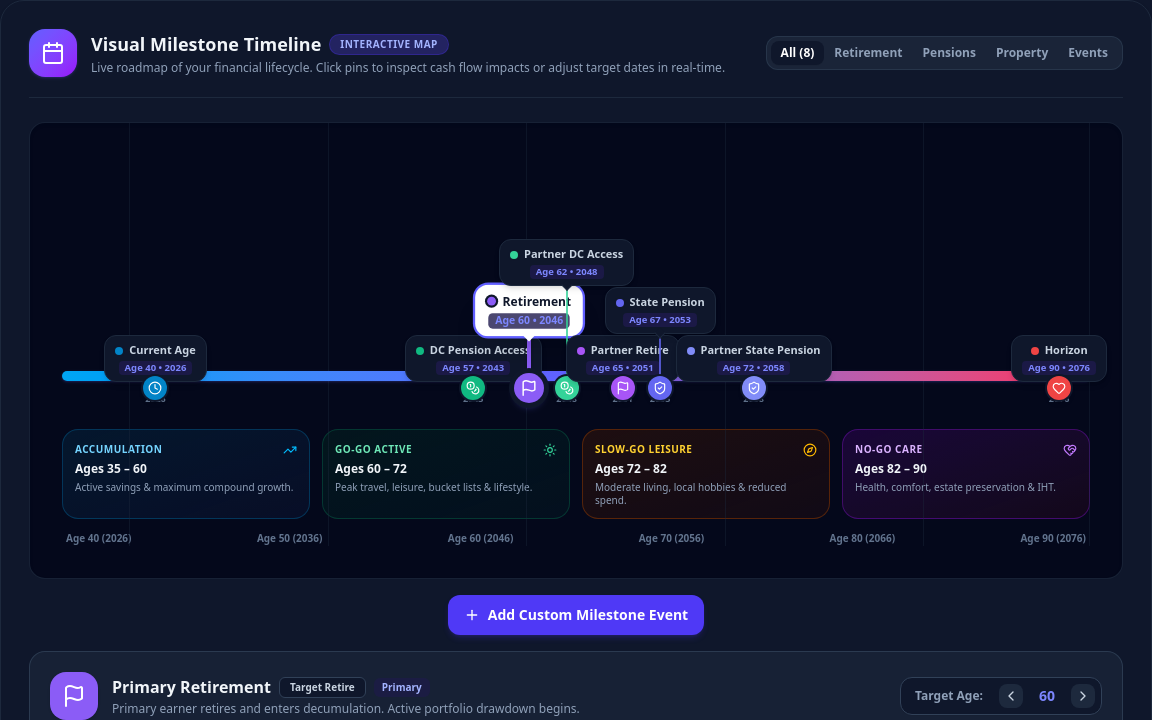
Test: MilestoneTimelineCard › handles Add Life Event modal cancellation and partner ownership selection in couple mode
Note: Open Add Modal
Click the button "Add Custom Milestone Event" at (576, 615), box [448, 595, 704, 635]
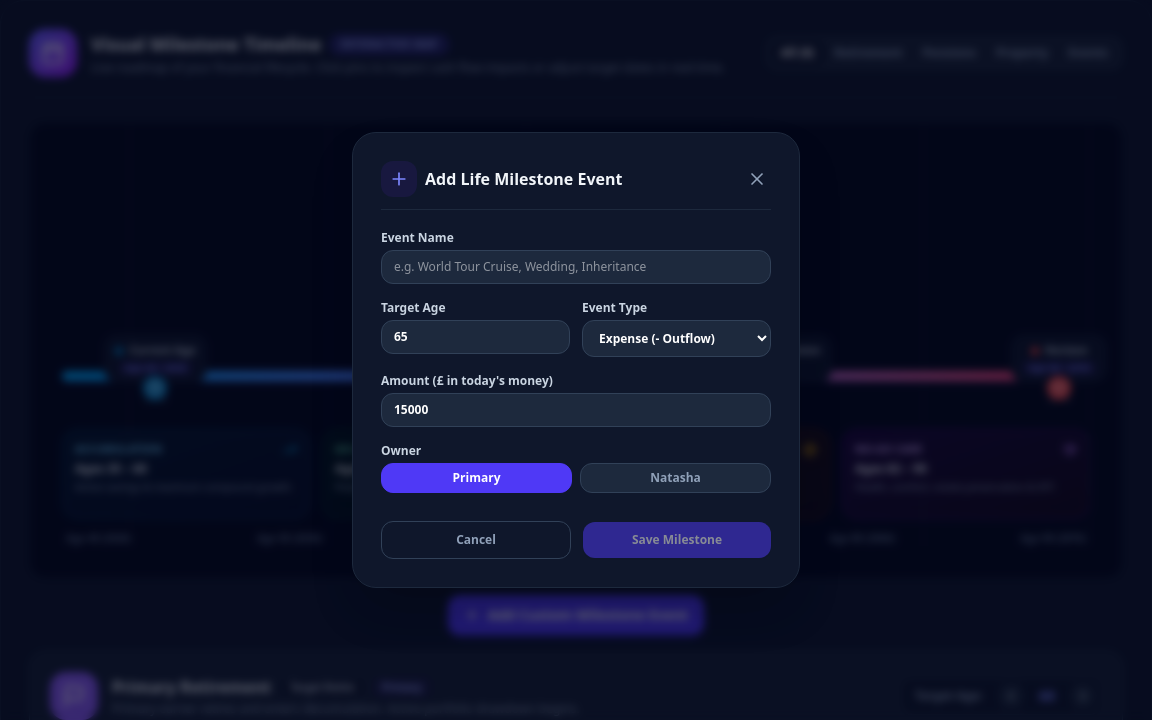
Note: Select partner ownership
Click the button "Natasha" at (676, 478), box [580, 463, 771, 493]
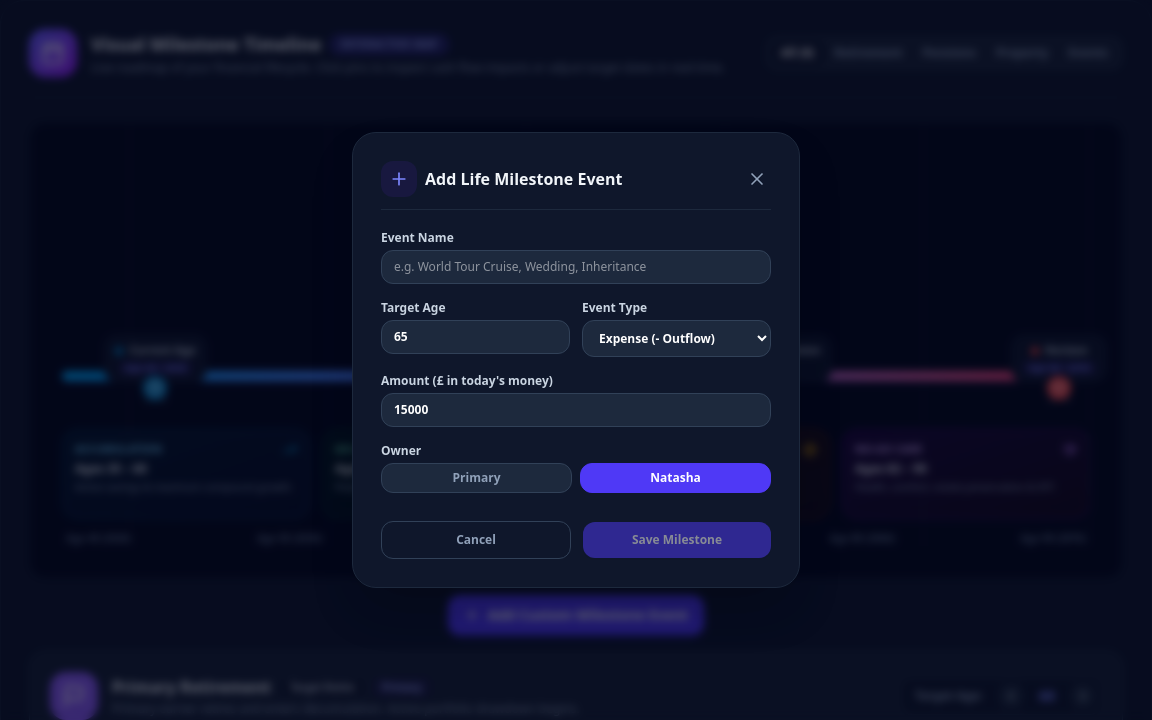
Note: Change type to income
Select "Income (+ Inflow)" in the dropdown at (676, 338), box [582, 320, 771, 357]
Note: Set Name
Type "Property Downsizing Release" into the field with placeholder "e.g. World Tour Cruise, Wedding, Inheritance" at (576, 267), box [381, 250, 771, 284]
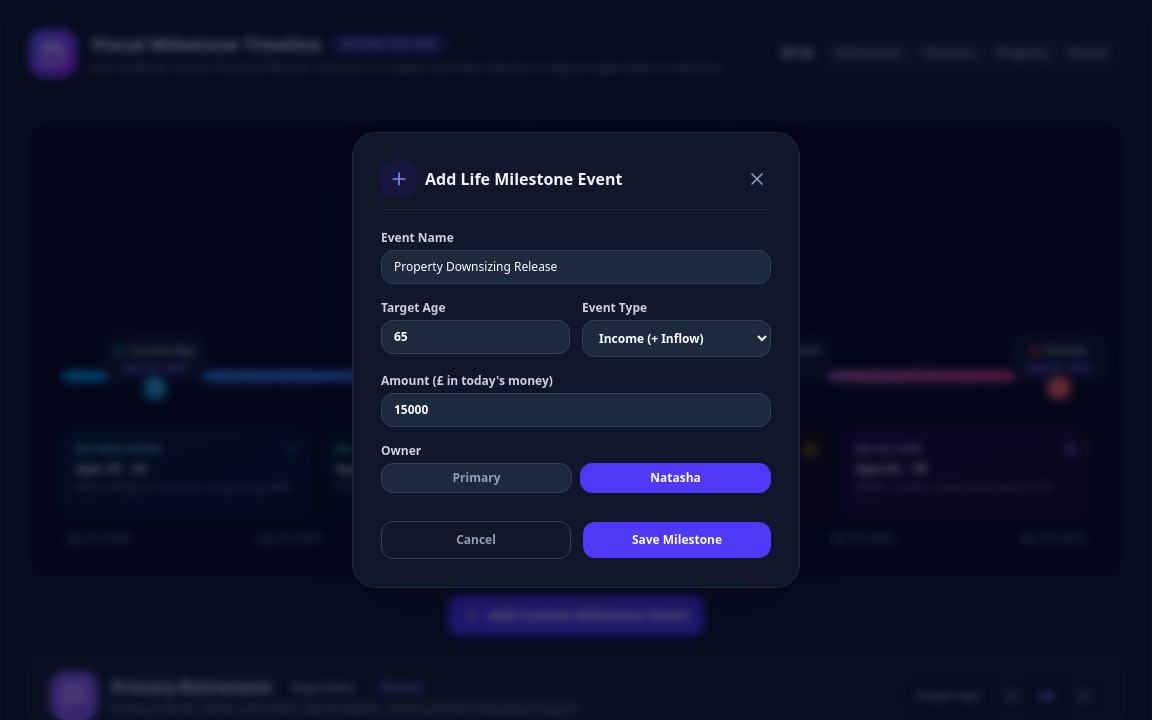
Note: Set Amount
Replace the text in the number field showing "15000" below "Amount (£ in today's money)" with "80000" at (576, 410), box [381, 393, 771, 427]
Click the button "Save Milestone" at (677, 540), box [583, 522, 771, 558]
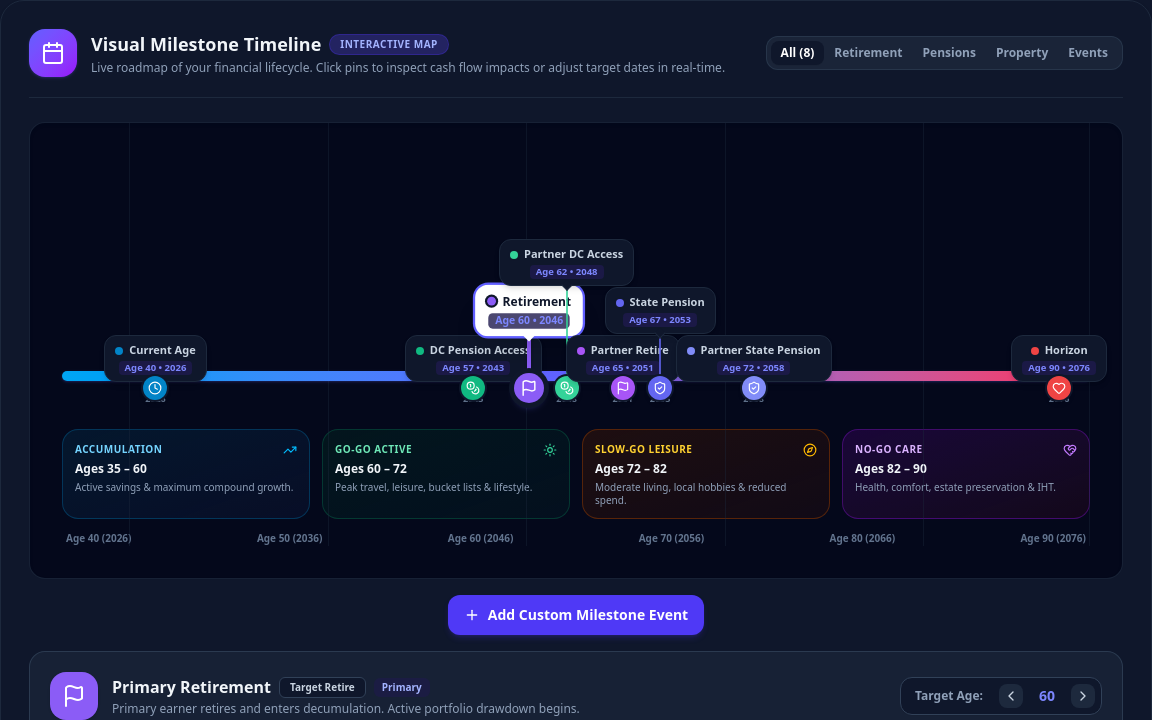
Note: Open again and click Cancel
Click the button "Add Custom Milestone Event" at (576, 615), box [448, 595, 704, 635]
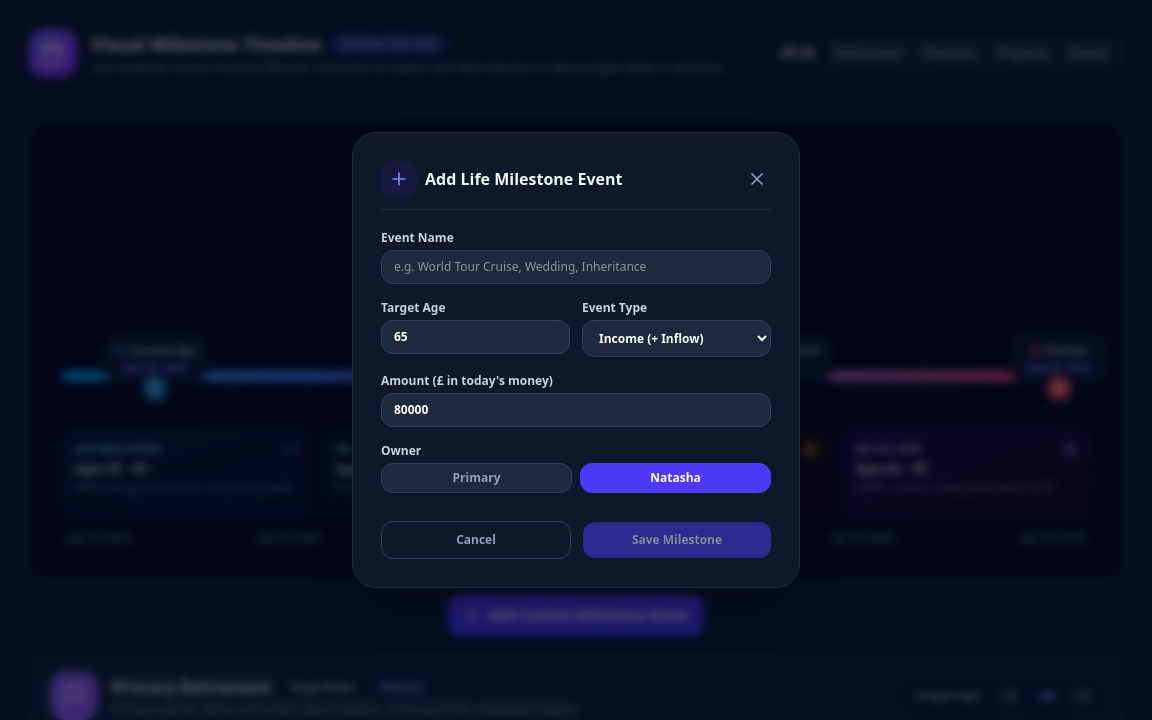
Click the button "Cancel" at (476, 540), box [381, 521, 571, 559]
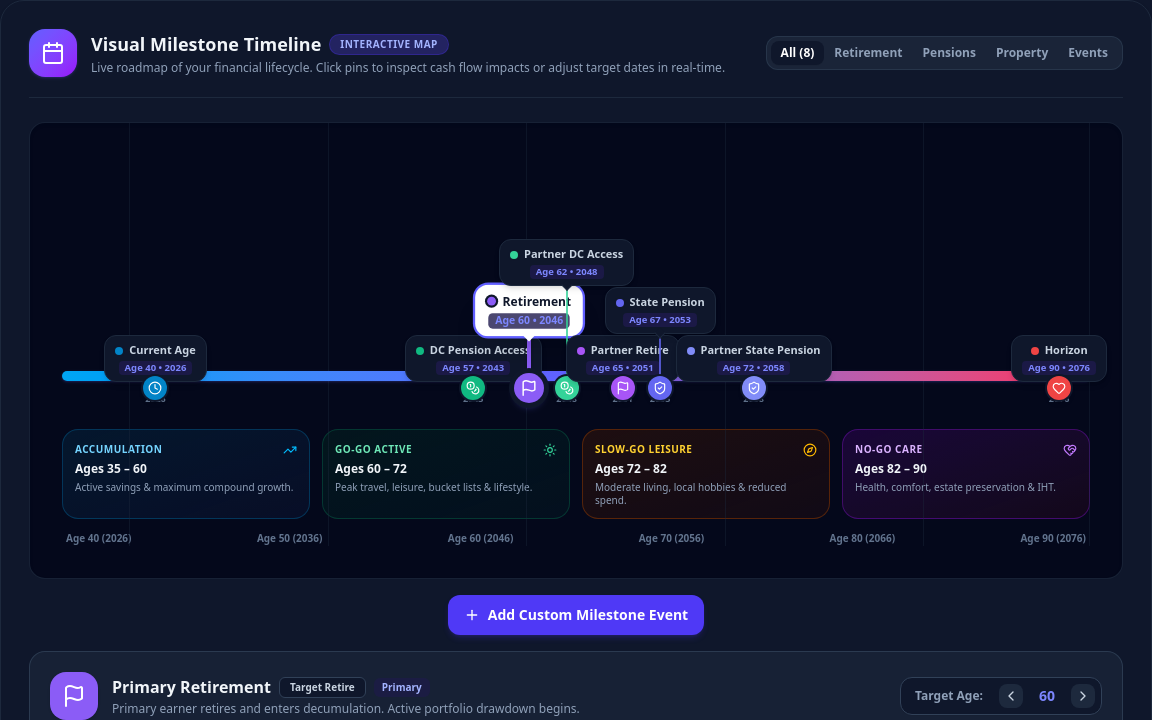
Now the heading "Add Life Milestone Event" is gone
